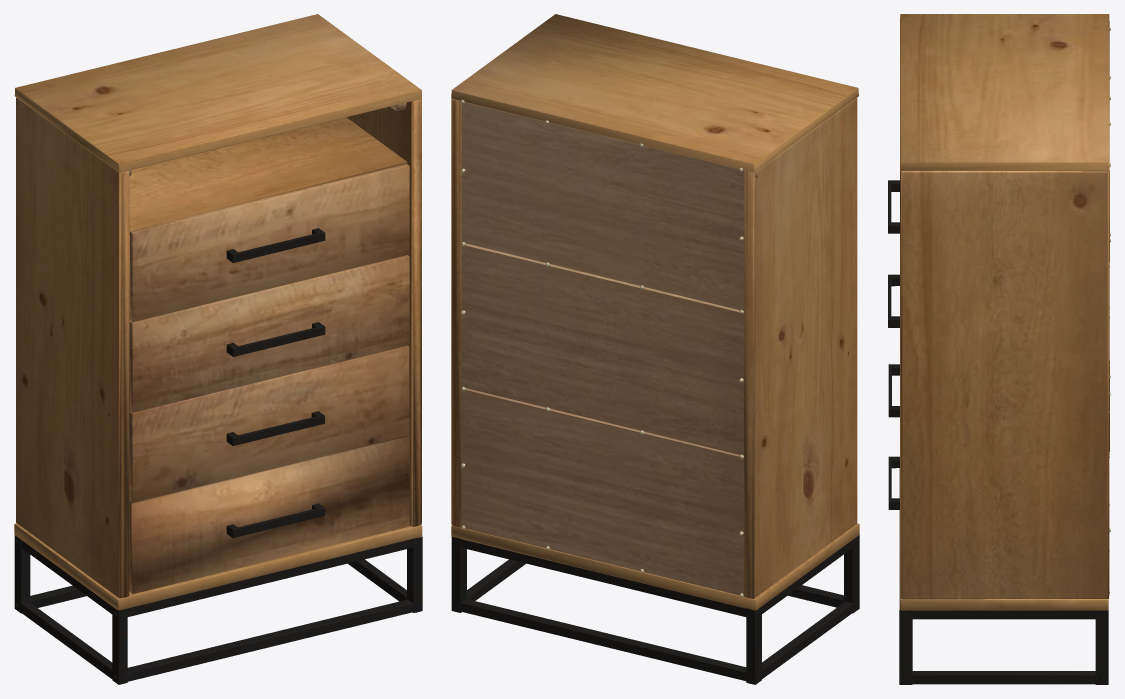
File: abo-B075YZYJQN.glb
3 views of the same model, side by side, from view 1: azimuth 30°, elevation 25°; view 2: azimuth 150°, elevation 25°; view 3: azimuth 270°, elevation 25° (orthographic).
Parts seen in each view (by area): view 1: RootNode; view 2: RootNode; view 3: RootNode.
Boxes of the visible parts, x1,y1,x2,y2 form: RootNode: (14,14,422,684); RootNode: (451,14,859,684); RootNode: (888,14,1110,684).
Size of the model in its own units: 0.7614 by 1.24 by 0.4789.
Materials: 1 (1 with a texture image).
